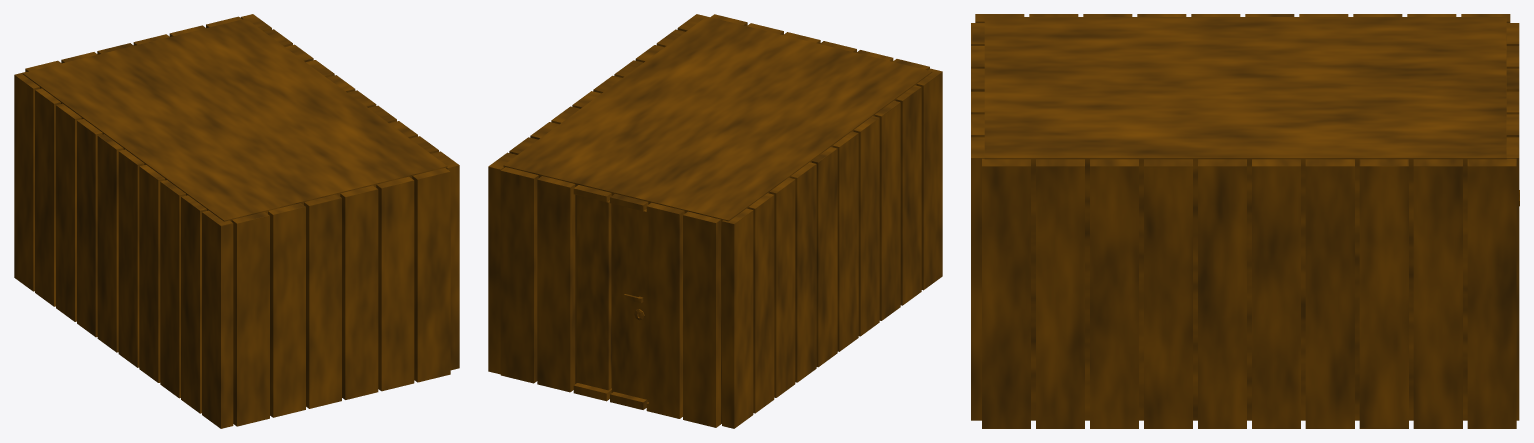
Rendered from Toolshed.fbx.
The picture shows the model from 3 angles, left to right: view 1: azimuth 30°, elevation 25°; view 2: azimuth 150°, elevation 25°; view 3: azimuth 270°, elevation 25°; orthographic projection. The views are drawn at different scales.
Parts seen in each view (by area): view 1: šUPA; view 2: šUPA, šUPA vRATA; view 3: šUPA.
Boxes of the visible parts, x1,y1,x2,y2 form: šUPA: [14, 14, 459, 428]; šUPA: [488, 14, 942, 428]; šUPA vRATA: [576, 195, 648, 399]; šUPA: [971, 14, 1519, 428].
Size of the model in its own units: 433 by 350 by 659.
Materials: 1 (1 with a texture image).
